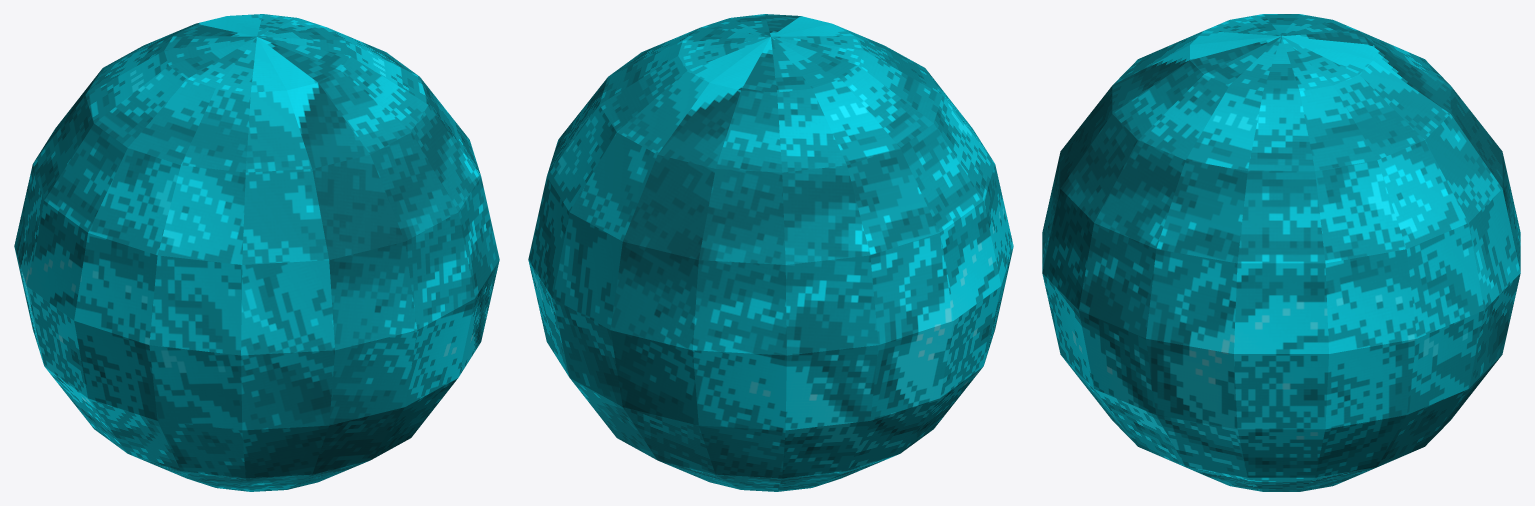
Rendered from Planet3.fbx.
The picture shows the model from 3 angles, left to right: view 1: azimuth 30°, elevation 25°; view 2: azimuth 150°, elevation 25°; view 3: azimuth 270°, elevation 25°; orthographic projection.
Visible parts, largest first — view 1: Planet3; view 2: Planet3; view 3: Planet3.
Boxes of the visible parts, left/top/right/bottom form: Planet3: left=14, top=14, right=499, bottom=491; Planet3: left=528, top=14, right=1013, bottom=491; Planet3: left=1042, top=14, right=1520, bottom=491.
Bounding box in the file's own units: 1088 × 1088 × 1088.
Materials: 1 (1 with a texture image).
